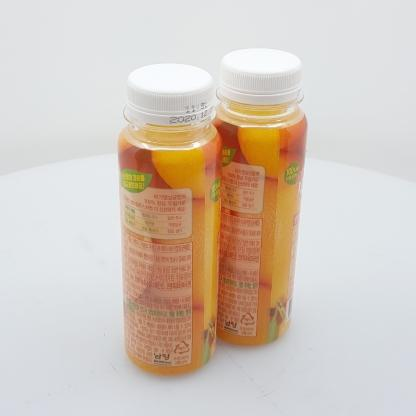--------210ML: (117, 63, 223, 376), (205, 48, 309, 347)
